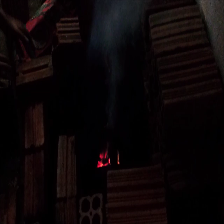fire_l: (97, 150, 110, 167), (117, 153, 120, 164)
